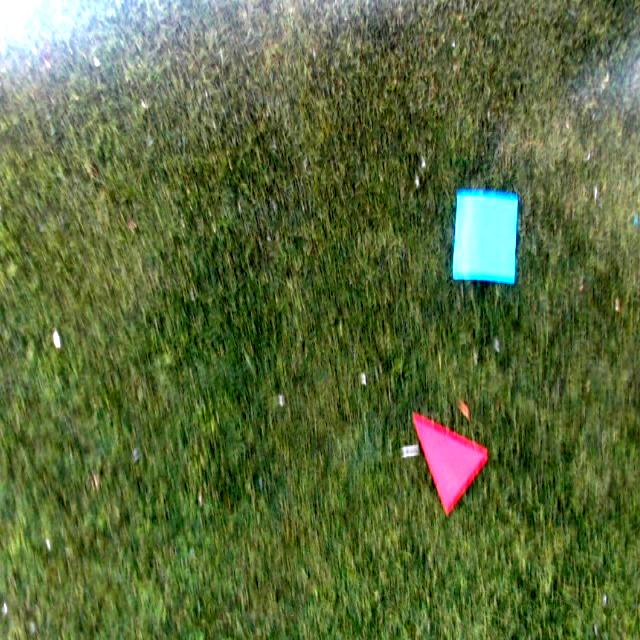blue_square: (453, 194, 516, 284)
red_triangle: (411, 415, 485, 511)
